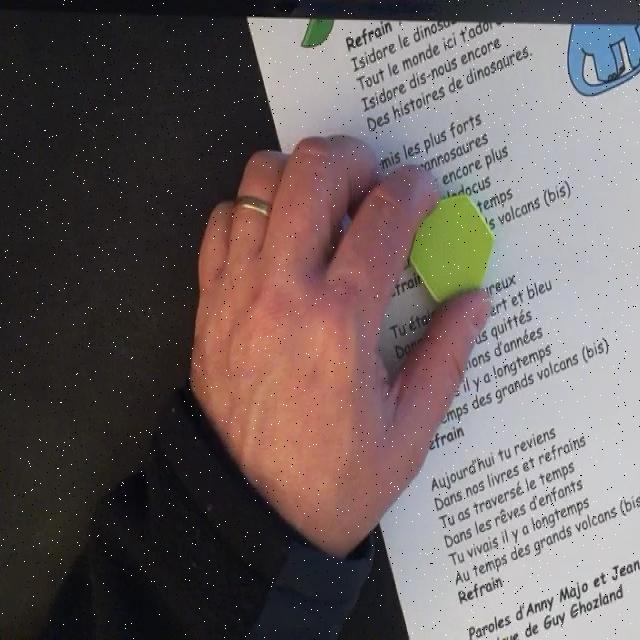hexagon: (410, 193, 494, 304)
